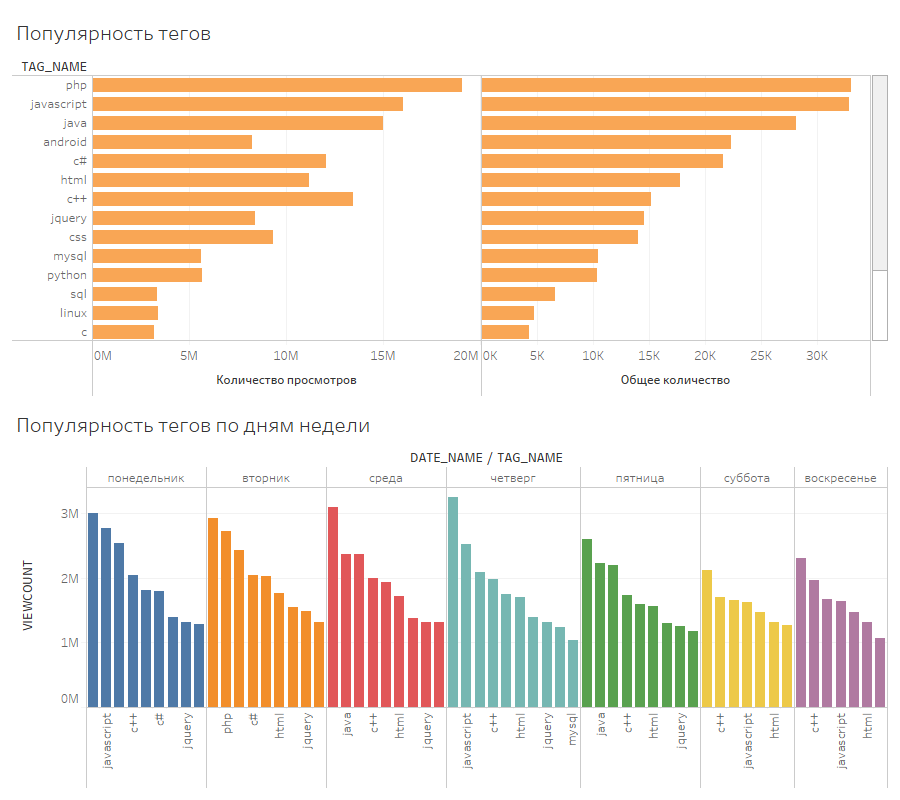

The page's visual inventory and layout, read from the dashboard file:
{"tool":"tableau","page":{"name":"Dashboard 1","canvas":[900,800],"ordinal":0},"visuals":[{"type":"worksheet","title":"Sheet 1","mark":"Automatic","rows":["TAG_NAME"],"cols":["VIEWCOUNT","COUNT"],"box":[8,8,884,392]},{"type":"worksheet","title":"Sheet 4","mark":"Bar","rows":["VIEWCOUNT"],"cols":["DATE_NAME","TAG_NAME"],"box":[8,400,884,392]}]}

Visuals, with their boxes in screenshot pixels (x1, y1, x2, y2), scaled from the page's 900x800 canvas onto the 900x800 screenshot:
"Sheet 1" worksheet: 8 8 892 400
"Sheet 4" worksheet (Bar marks): 8 400 892 792
